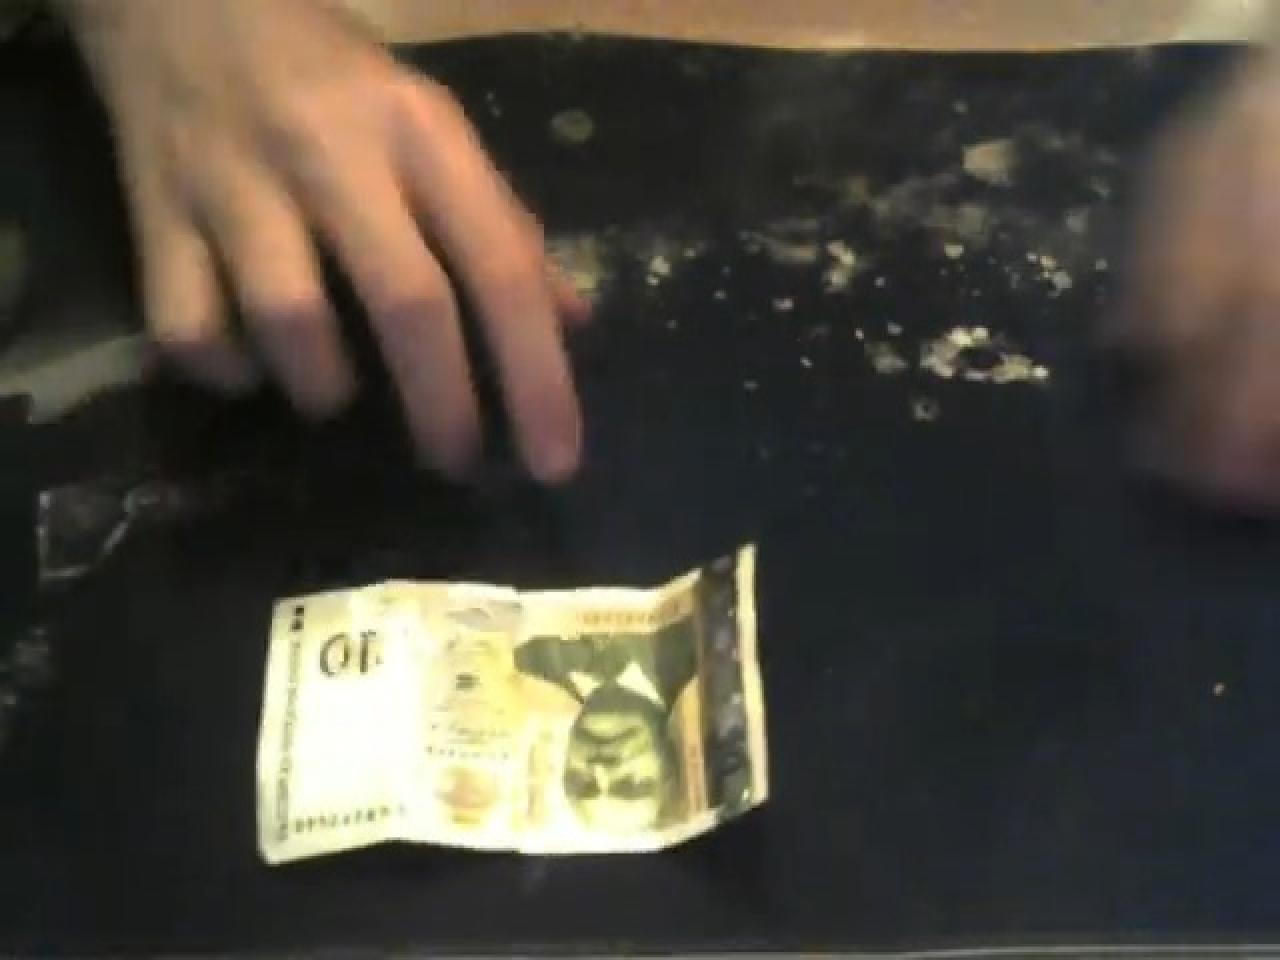10leva: (515, 607, 720, 836), (312, 615, 389, 710)
